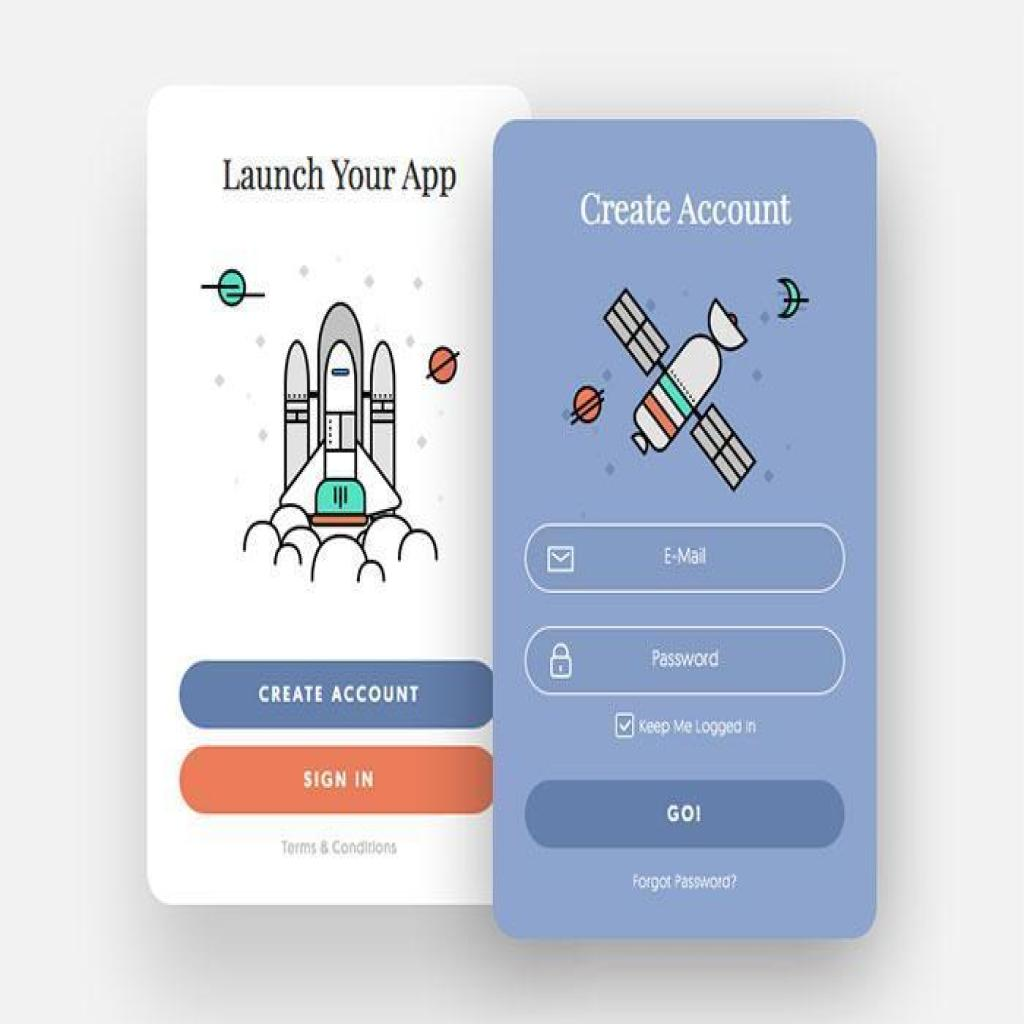button: (178, 660, 492, 730), (180, 745, 493, 815), (525, 782, 846, 847)
checkbox: (616, 712, 633, 737)
icon: (547, 636, 575, 684), (546, 542, 575, 578)
input: (525, 523, 846, 597), (522, 626, 846, 694)
label: (208, 148, 468, 205), (575, 189, 802, 228), (642, 720, 759, 737)
